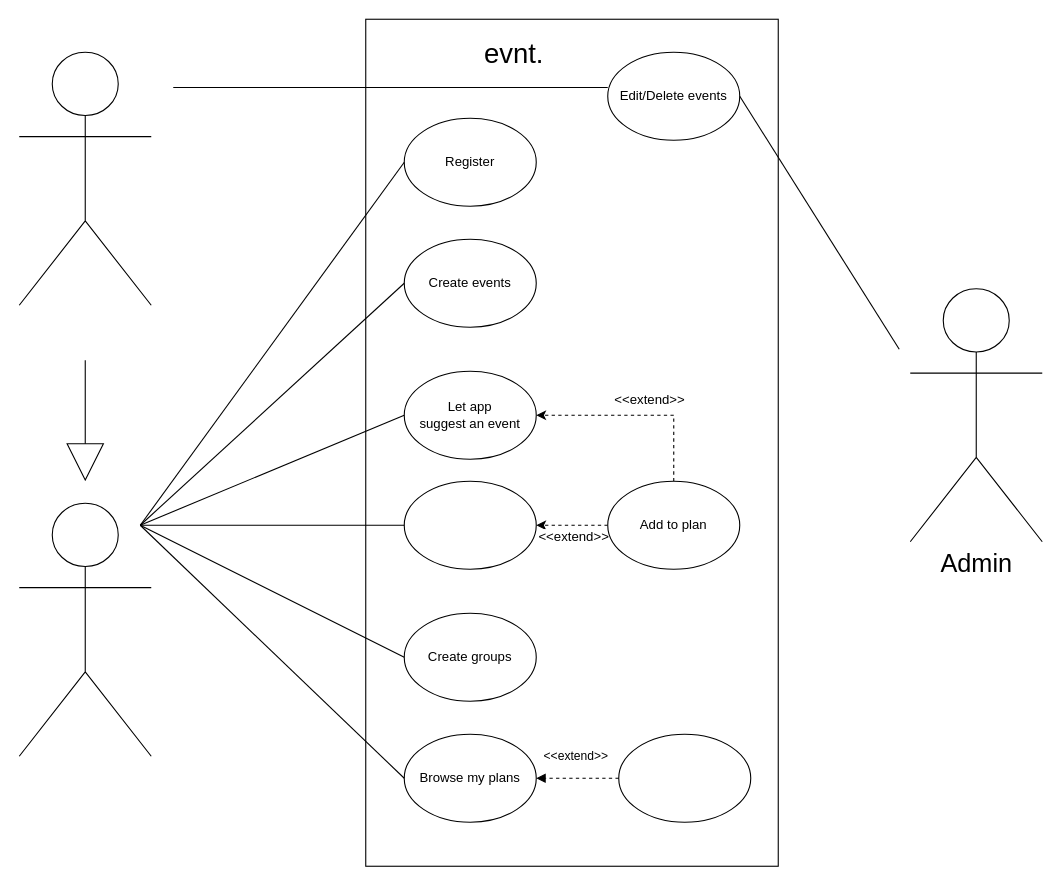
Image size: 1062x886. Some labels were removed from this diagram. Here are the shapes that lost their labels. From the top down, the box of each, then its label:
(18, 51, 151, 305): Host
(403, 480, 536, 569): Browse events
(18, 502, 151, 756): User
(618, 733, 751, 822): Chat with people
